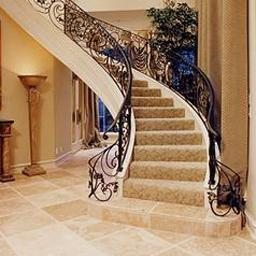Escaleras: (19, 6, 246, 240)
Otro Obstaculo: (20, 72, 50, 175), (1, 112, 15, 188)
Puerta: (71, 78, 87, 152)
